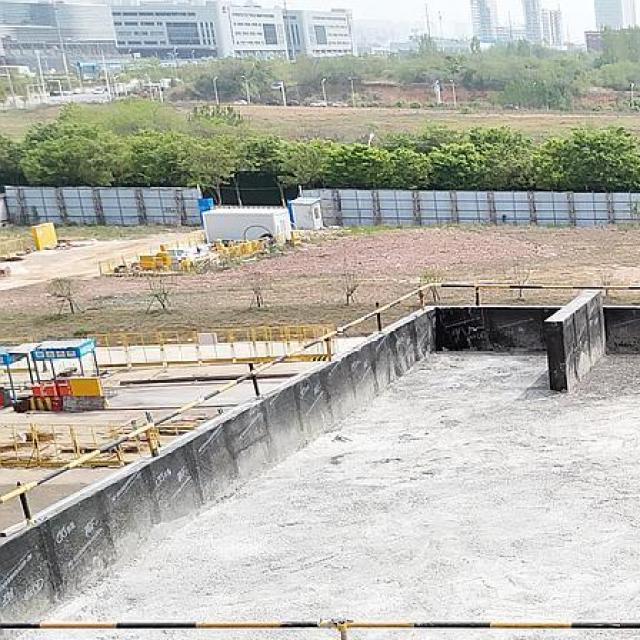edge_guardrail: (0, 280, 640, 530), (0, 620, 640, 640)
